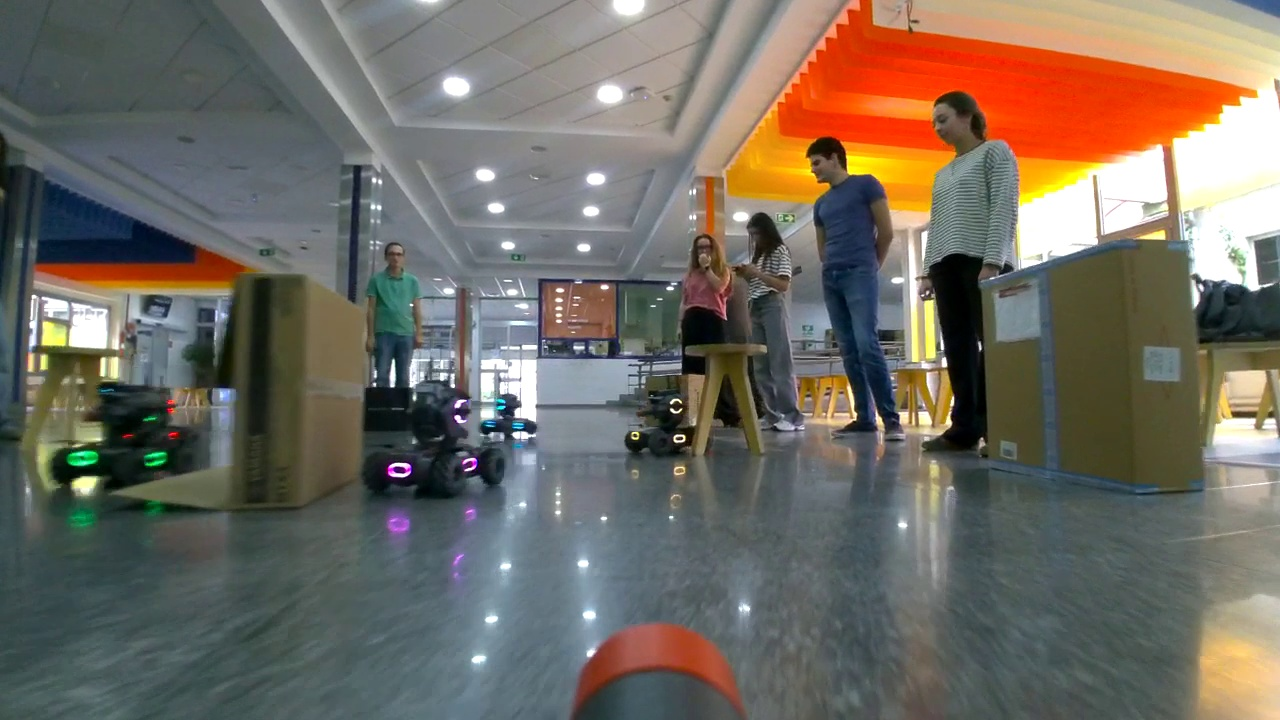robot: (362, 383, 507, 495), (624, 390, 703, 457)
